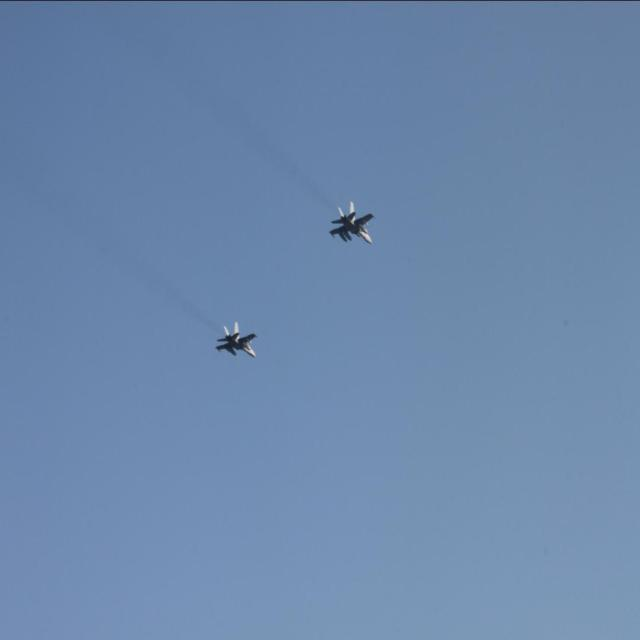MIL_Plane: (328, 200, 376, 246), (214, 321, 258, 358)
